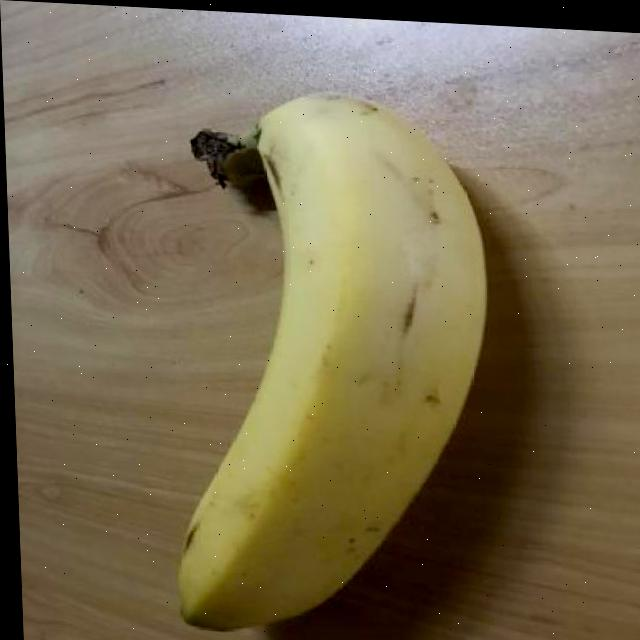banana: (151, 72, 517, 640)
